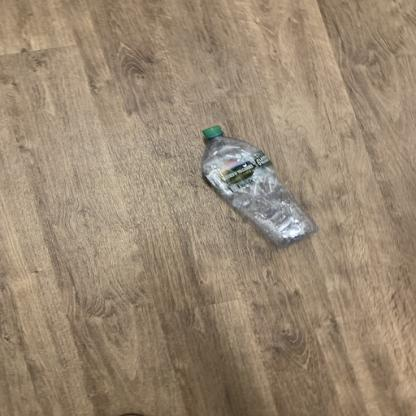trash: (195, 125, 320, 248)
